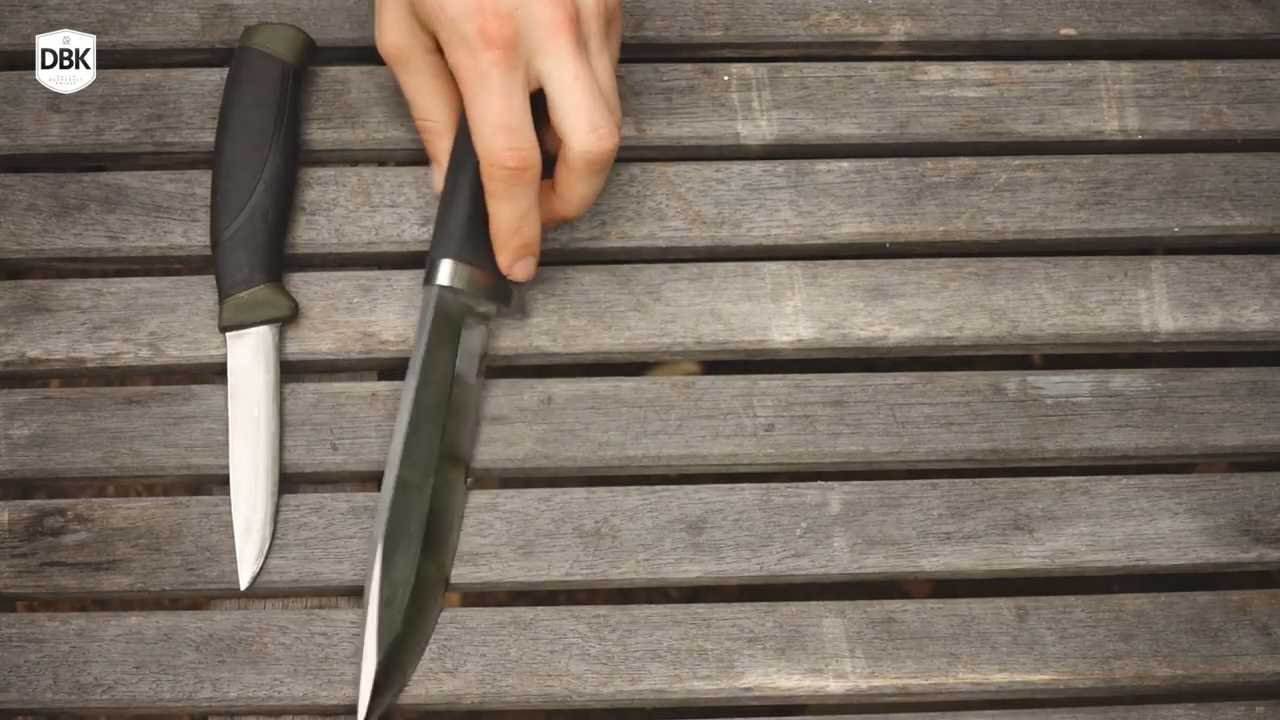knife: (350, 172, 621, 720), (183, 262, 312, 627)
